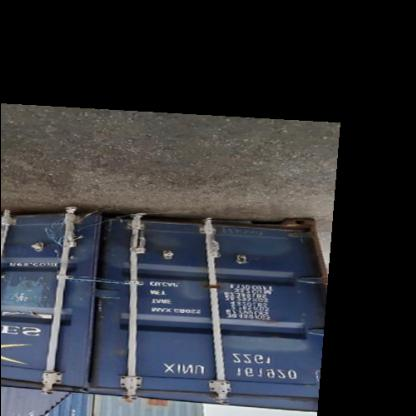Damage: (40, 212, 97, 254), (1, 278, 52, 315), (232, 238, 288, 270), (134, 231, 180, 266)
